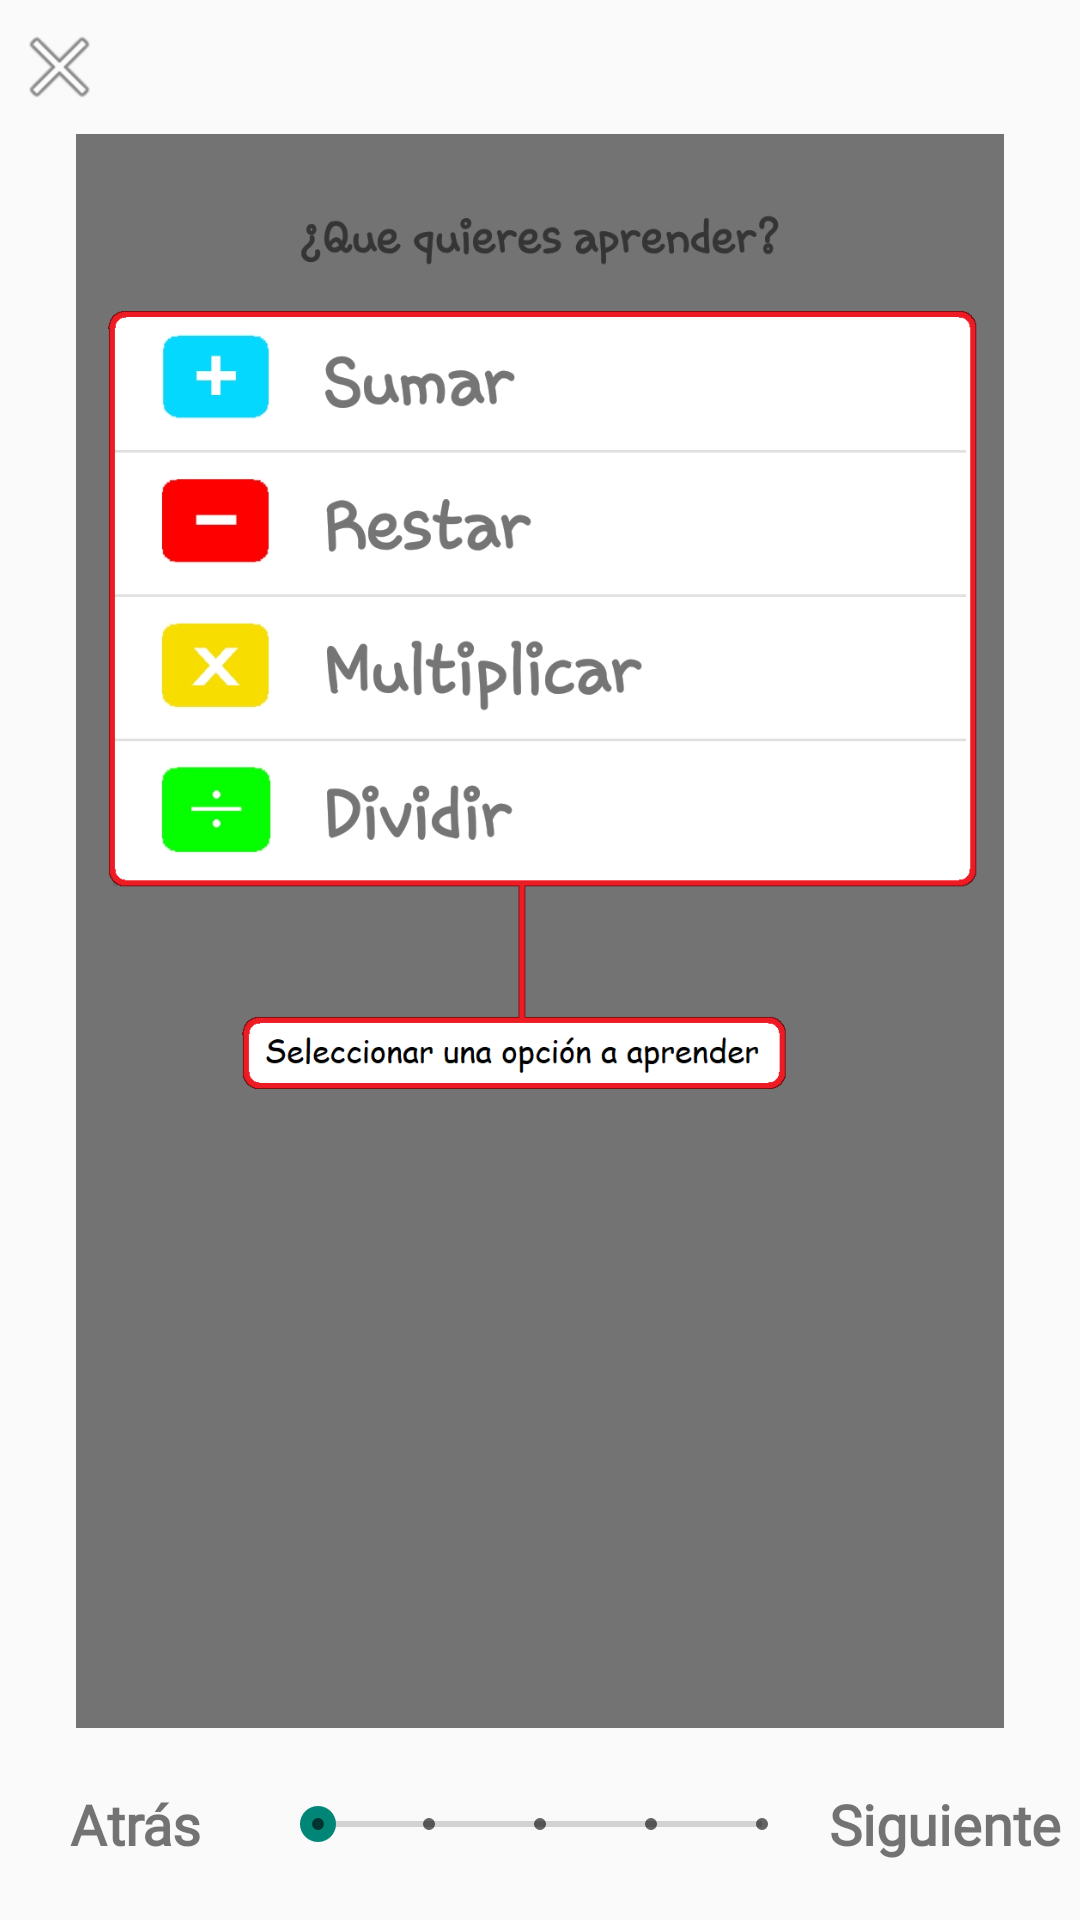

Where to tap for icons on this 1080x1920 app screen, as [x,y]:
close clear cancel: [59,67]
